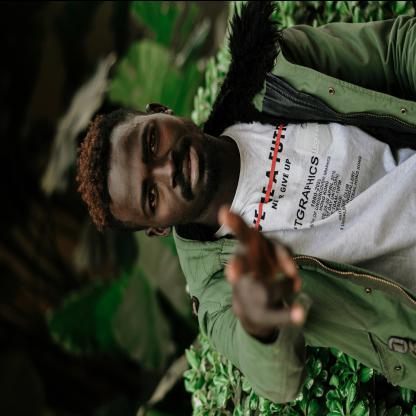Eye: (146, 124, 160, 154), (148, 180, 160, 209)
Mouth: (180, 144, 200, 194)
Nose: (154, 150, 178, 188)
